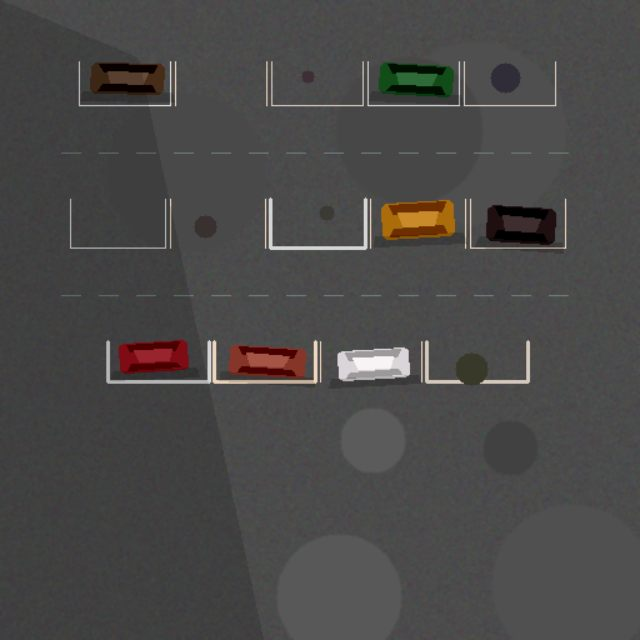space-empty: (70, 199, 165, 248), (170, 199, 265, 248), (270, 199, 365, 248), (426, 341, 527, 381), (175, 61, 266, 105), (271, 61, 362, 105), (464, 61, 555, 105)
space-occupied: (370, 199, 465, 248), (470, 199, 565, 248), (107, 341, 209, 381), (214, 341, 315, 381), (320, 341, 421, 381), (79, 61, 170, 105), (368, 61, 459, 105)
